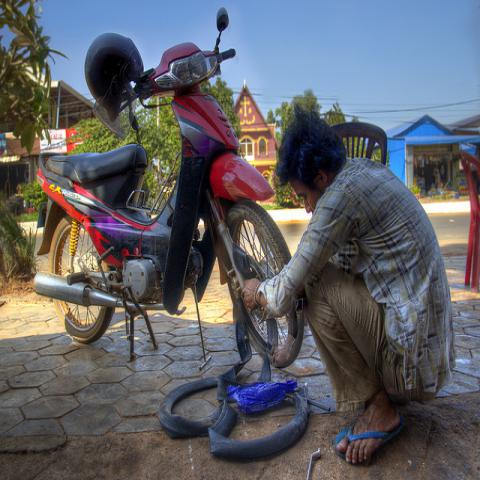motorcycle: (31, 18, 308, 371)
